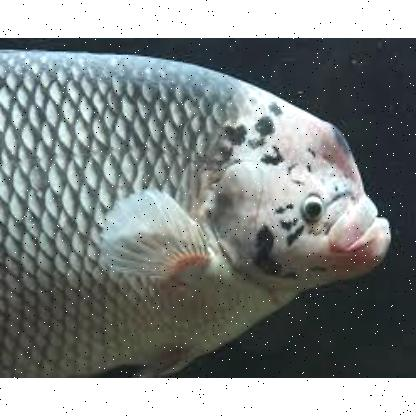gurame: (0, 50, 400, 376)
